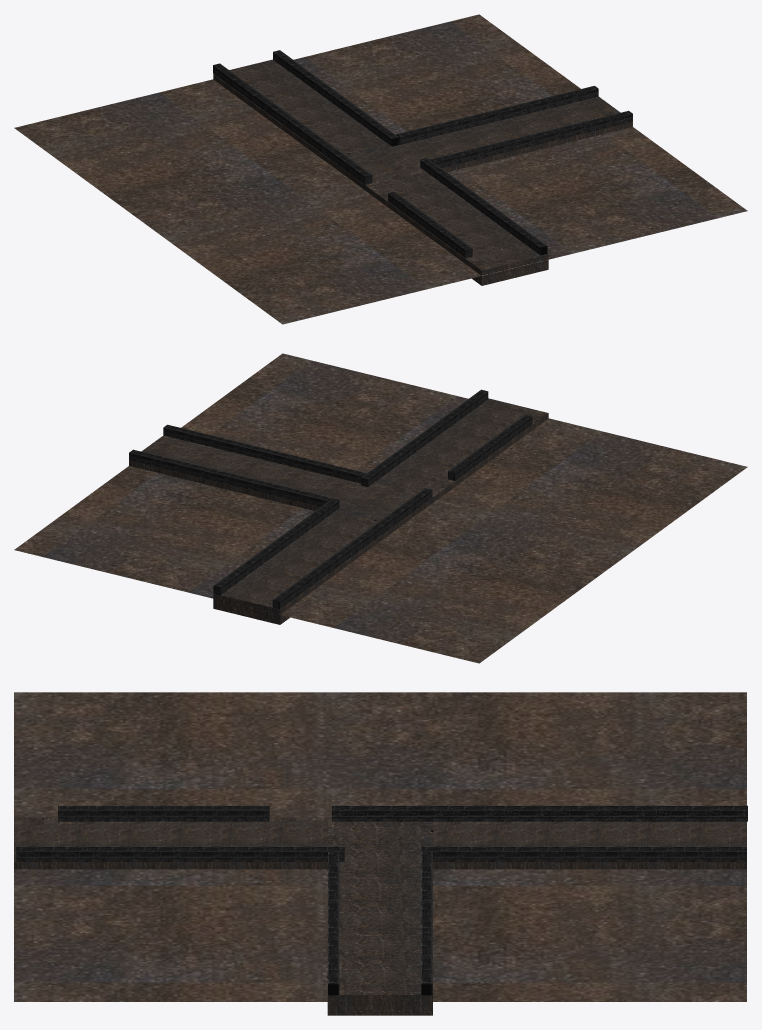
File: T_tile.fbx
3 views of the same model, one above another, from view 1: azimuth 30°, elevation 25°; view 2: azimuth 150°, elevation 25°; view 3: azimuth 270°, elevation 25° (orthographic). The views are drawn at different scales.
Visible parts, largest first — view 1: Plane.048, Cube.032, Cube.038, Cube.033, Cube.034, Cube.037, Cube.035, Cube.039, Cube.036, Cube.040; view 2: Plane.048, Cube.032, Cube.033, Cube.038, Cube.035, Cube.037, Cube.034, Cube.039, Cube.036, Cube.040; view 3: Plane.048, Cube.032, Cube.038, Cube.033, Cube.037, Cube.039, Cube.036, Cube.040, Cube.034, Cube.035.
Boxes of the visible parts, <box> form: Plane.048: <box>14,14,747,324</box>; Cube.032: <box>329,96,632,190</box>; Cube.038: <box>366,172,548,285</box>; Cube.033: <box>213,59,387,164</box>; Cube.034: <box>396,86,598,144</box>; Cube.037: <box>213,63,372,184</box>; Cube.035: <box>430,110,632,167</box>; Cube.039: <box>420,158,547,255</box>; Cube.036: <box>273,50,399,146</box>; Cube.040: <box>388,192,472,258</box>; Plane.048: <box>14,353,747,663</box>; Cube.032: <box>129,435,433,529</box>; Cube.033: <box>213,511,396,624</box>; Cube.038: <box>374,398,548,502</box>; Cube.035: <box>163,424,365,483</box>; Cube.037: <box>272,488,432,609</box>; Cube.034: <box>129,449,331,506</box>; Cube.039: <box>361,389,488,486</box>; Cube.036: <box>213,498,339,594</box>; Cube.040: <box>448,414,532,480</box>; Plane.048: <box>14,692,746,1001</box>; Cube.032: <box>327,817,432,1015</box>; Cube.038: <box>14,817,327,869</box>; Cube.033: <box>433,821,746,869</box>; Cube.037: <box>332,805,747,821</box>; Cube.039: <box>16,846,344,861</box>; Cube.036: <box>421,846,746,861</box>; Cube.040: <box>58,805,269,821</box>; Cube.034: <box>421,852,432,995</box>; Cube.035: <box>328,852,339,995</box>.
Bounding box in the file's own units: 6962 × 343 × 6969.
